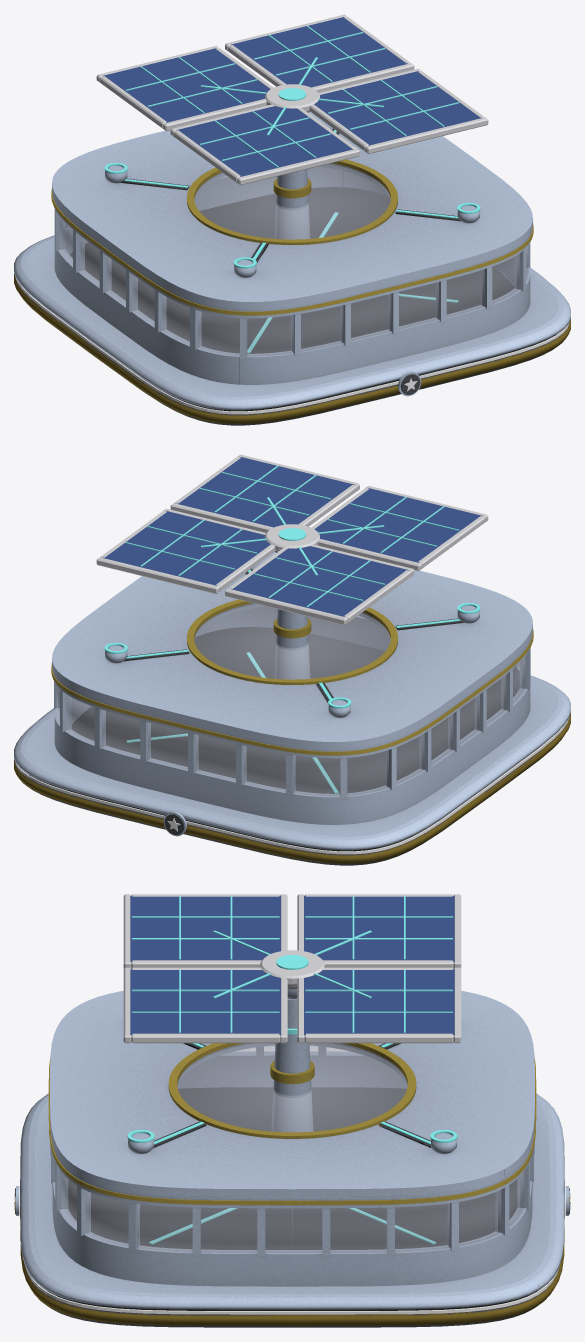
The model's file is SM_Evo_SolarArray.fbx.
The picture shows the model from 3 angles, top to bottom: view 1: azimuth 30°, elevation 25°; view 2: azimuth 150°, elevation 25°; view 3: azimuth 270°, elevation 25°; orthographic projection. The views are drawn at different scales.
Parts seen in each view (by area): view 1: SMN_Evo_SolarArray, SunPanel_SolarArray, Emblem_Fx_SolarArray; view 2: SMN_Evo_SolarArray, SunPanel_SolarArray, Emblem_Fx_SolarArray; view 3: SMN_Evo_SolarArray, SunPanel_SolarArray, Emblem_Fx_SolarArray.
Boxes of the visible parts, <box> form: SMN_Evo_SolarArray: <box>14,111,570,425</box>; SunPanel_SolarArray: <box>96,14,488,185</box>; Emblem_Fx_SolarArray: <box>15,129,569,414</box>; SMN_Evo_SolarArray: <box>14,551,570,865</box>; SunPanel_SolarArray: <box>96,454,488,625</box>; Emblem_Fx_SolarArray: <box>15,569,569,854</box>; SMN_Evo_SolarArray: <box>15,989,569,1327</box>; SunPanel_SolarArray: <box>123,894,461,1043</box>; Emblem_Fx_SolarArray: <box>14,1028,570,1314</box>.
Size of the model in its own units: 1.68 by 0.88 by 1.72.
